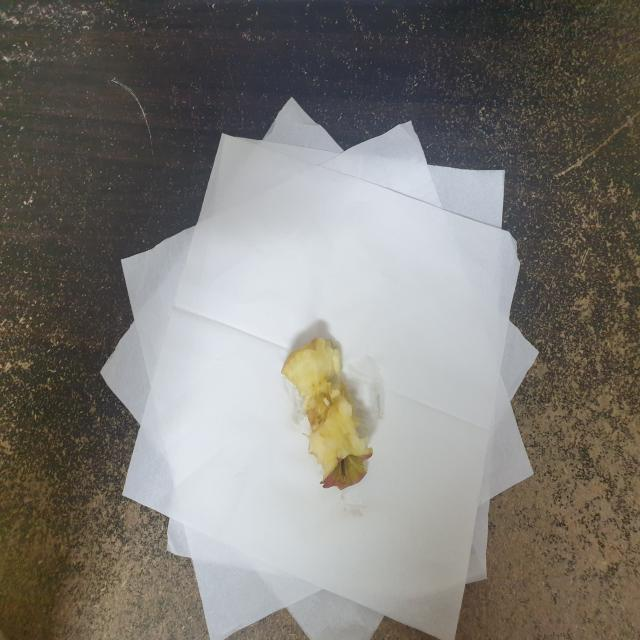apple: (278, 324, 388, 501)
